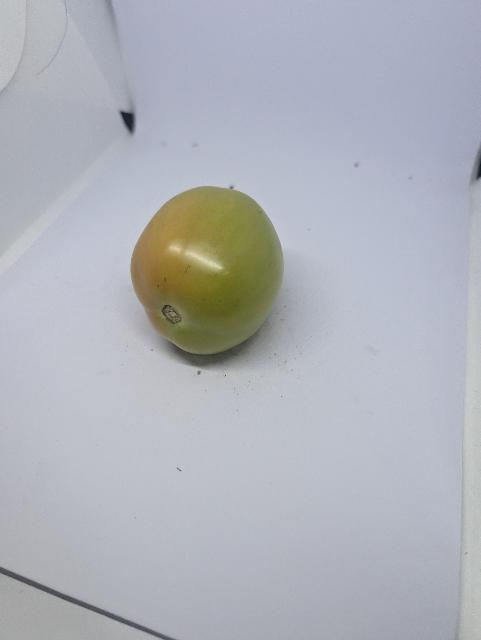breaker: (126, 185, 291, 360)
